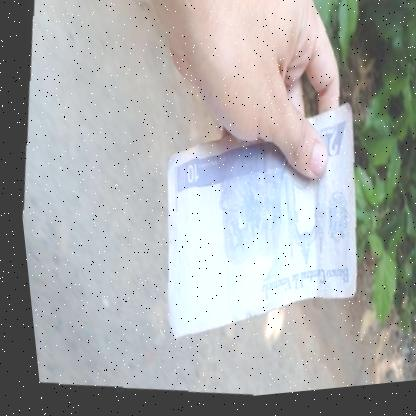ten-back-vef: (133, 82, 379, 365)
